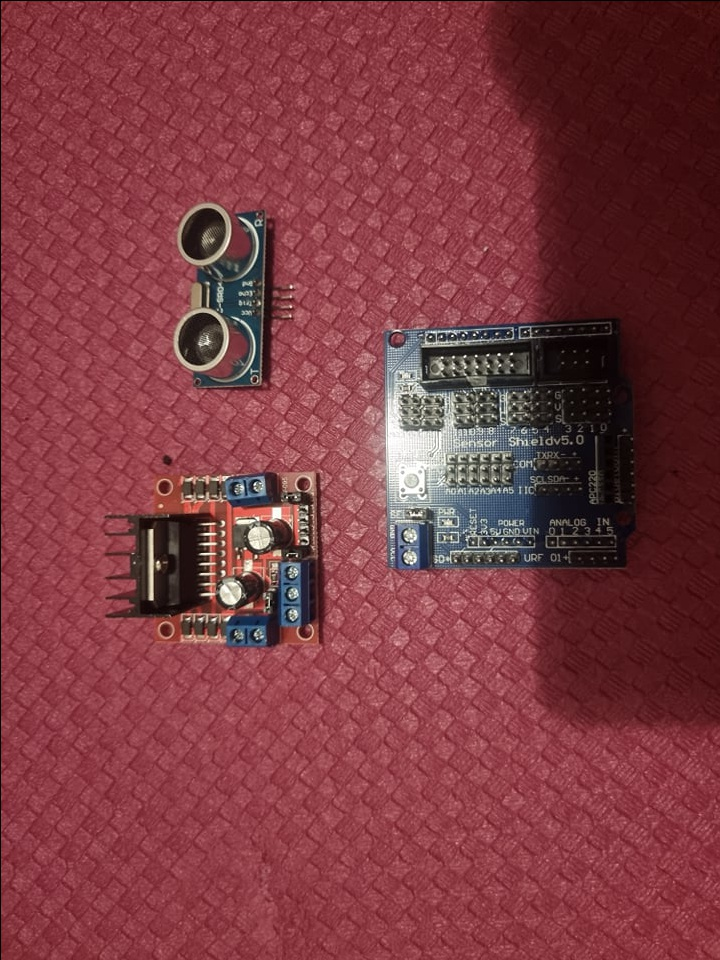5V EXPANSION: (377, 319, 634, 574)
MOTOR: (104, 464, 323, 653)
SENSOR: (177, 204, 265, 384)
